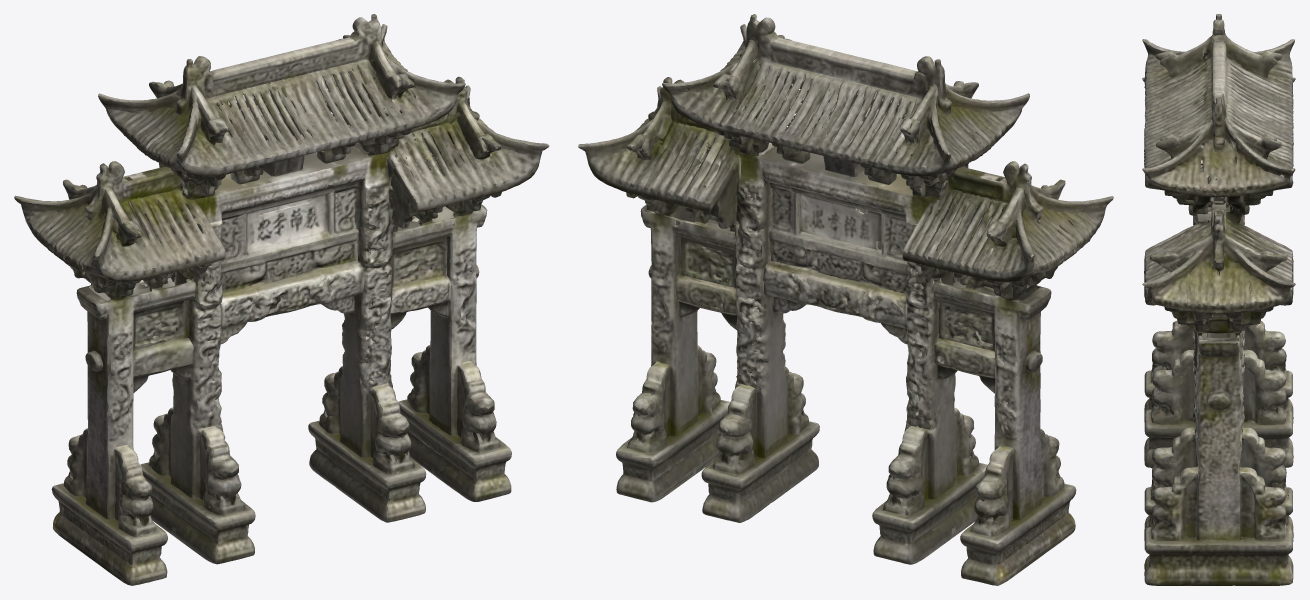
File: stone-memorial-arch.glb
The picture shows the model from 3 angles, left to right: view 1: azimuth 30°, elevation 25°; view 2: azimuth 150°, elevation 25°; view 3: azimuth 270°, elevation 25°; orthographic projection. The views are drawn at different scales.
Parts seen in each view (by area): view 1: geometry_0; view 2: geometry_0; view 3: geometry_0.
Boxes of the visible parts, bbox=[...] form: geometry_0: bbox=[14, 14, 549, 585]; geometry_0: bbox=[578, 14, 1113, 585]; geometry_0: bbox=[1142, 14, 1295, 585].
Size of the model in its own units: 5.51 by 5.5 by 1.73.
1 material, 1 textured.
